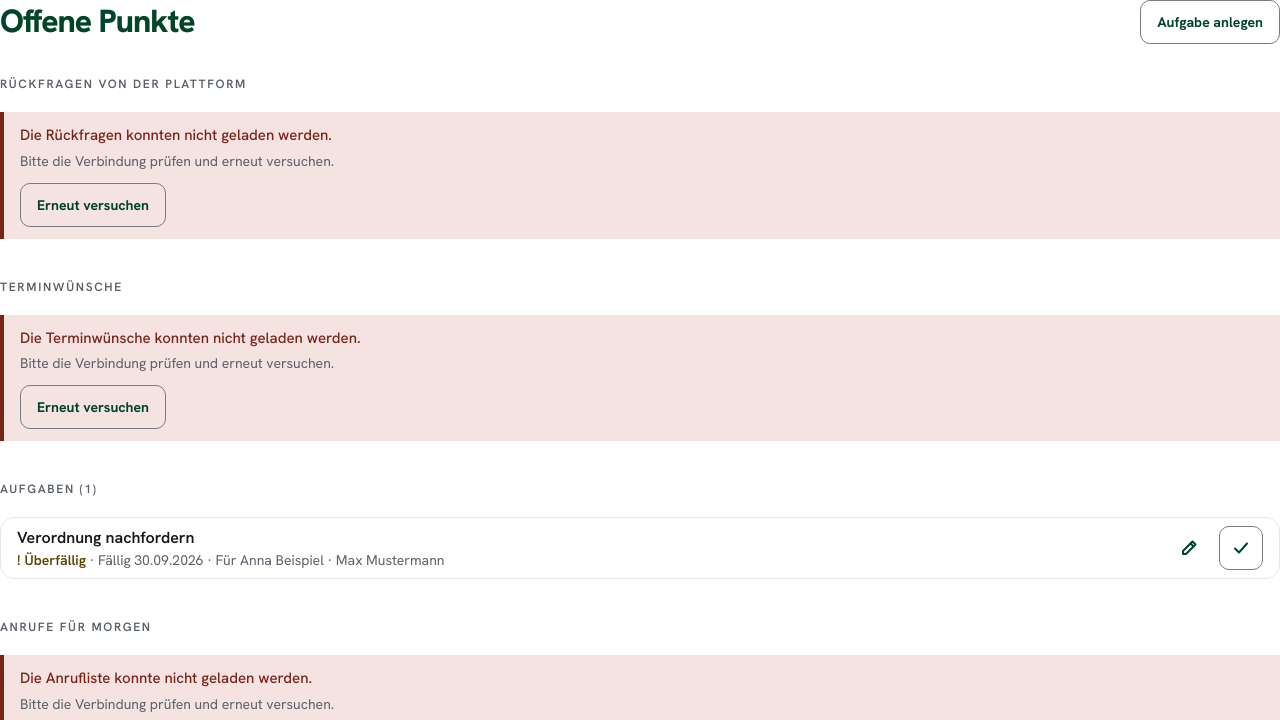
Test: Offene Punkte - Aufgaben (PRX-012) › erledigt eine Aufgabe mit einem Tipp
This screenshot has width=1280, height=720.
Click the button named "Erledigt: Verordnung nachfordern" at (1241, 548), box [1219,526,1263,570]
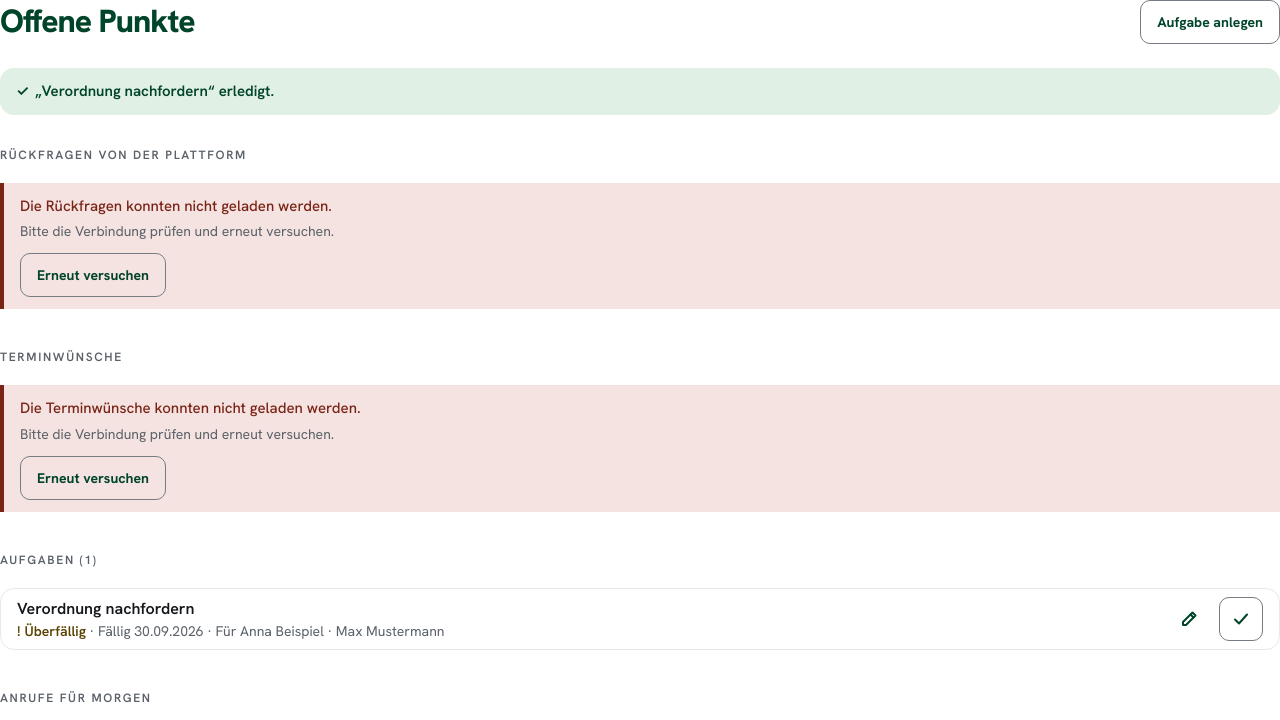
Now the text "„Verordnung nachfordern“ erledigt." is shown, box [35,81,274,101]
